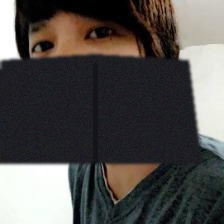Cadar_Niqab: (0, 0, 201, 163)
